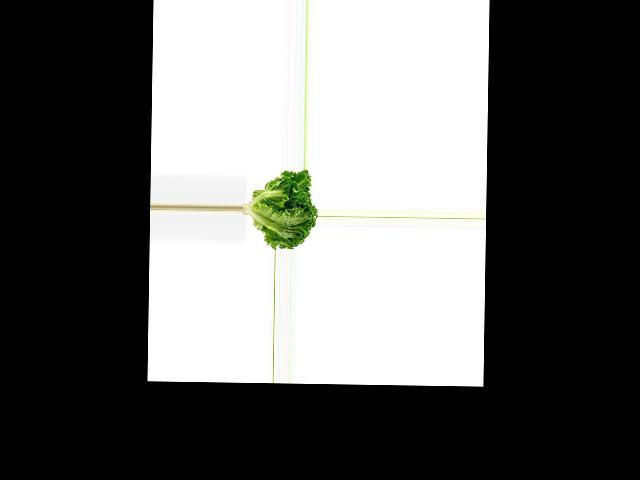lettuce: (241, 169, 317, 250)
